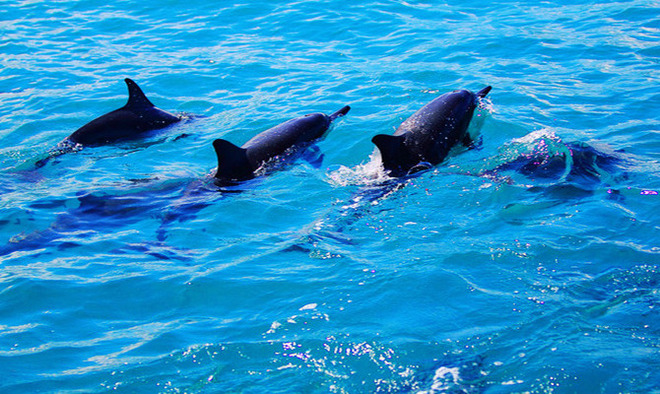fish: (282, 84, 497, 254), (123, 103, 351, 262), (20, 79, 220, 180), (14, 173, 188, 264)
